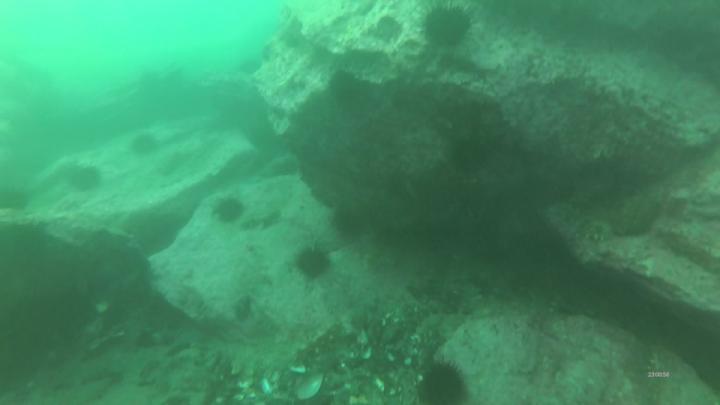echinus: (420, 365, 464, 405), (425, 9, 470, 47), (298, 248, 327, 277), (71, 170, 102, 189), (216, 200, 240, 223), (134, 135, 157, 154)
holothurian: (555, 204, 611, 243)
